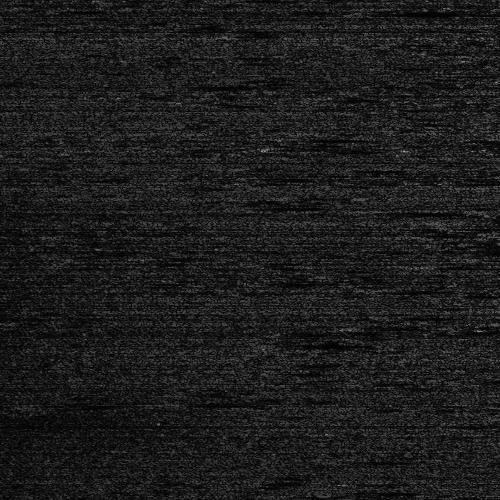object: (419, 217, 492, 224), (473, 206, 500, 215)
shadow: (455, 217, 500, 224)
